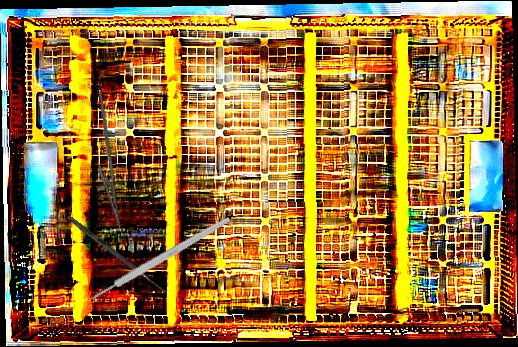Hook Surgical: (65, 214, 170, 296)
Needle Holder: (72, 90, 138, 233)
Scalpel Handle: (89, 214, 232, 303)
